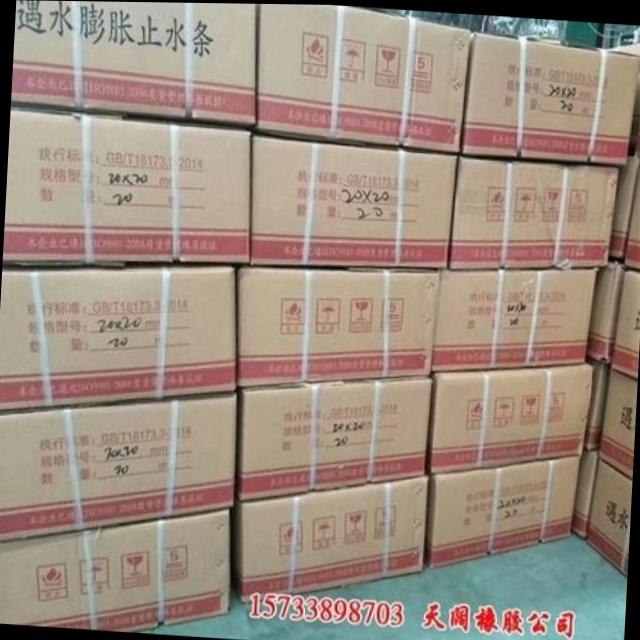box: (3, 108, 251, 262), (0, 393, 237, 542), (0, 266, 236, 411), (257, 3, 469, 152), (11, 0, 256, 122), (0, 506, 231, 631), (250, 134, 457, 268), (234, 474, 429, 600), (239, 373, 433, 499), (461, 32, 640, 164), (237, 269, 439, 385), (450, 154, 618, 267), (430, 362, 593, 470), (424, 454, 581, 566), (430, 267, 597, 371), (587, 459, 632, 575), (600, 366, 638, 476), (587, 259, 625, 363), (613, 269, 640, 377), (610, 154, 638, 258), (570, 448, 599, 537), (624, 163, 640, 268), (629, 68, 640, 155)
